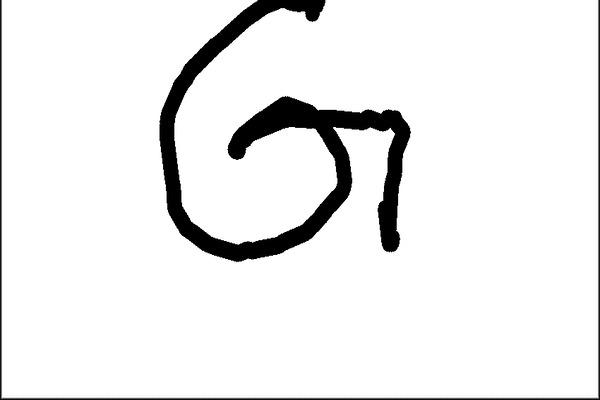G: (151, 0, 413, 274)
